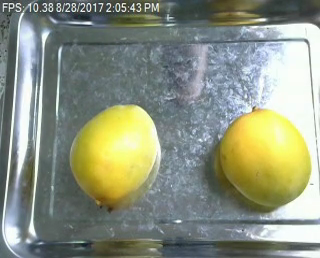Mango: (65, 103, 161, 212), (218, 106, 310, 208)
